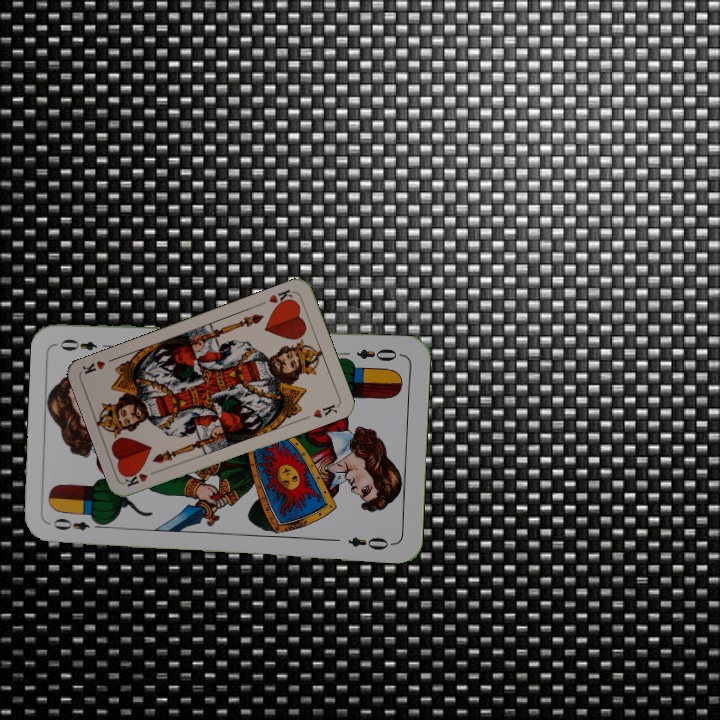EO: (49, 514, 107, 533), (352, 344, 405, 364)
HK: (122, 466, 162, 489), (265, 285, 296, 310)
